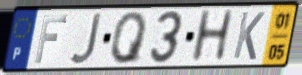3: (148, 9, 186, 65)
F: (32, 14, 70, 65)
H: (188, 8, 237, 65)
J: (68, 11, 104, 67)
K: (231, 10, 267, 63)
Q: (109, 10, 150, 66)
